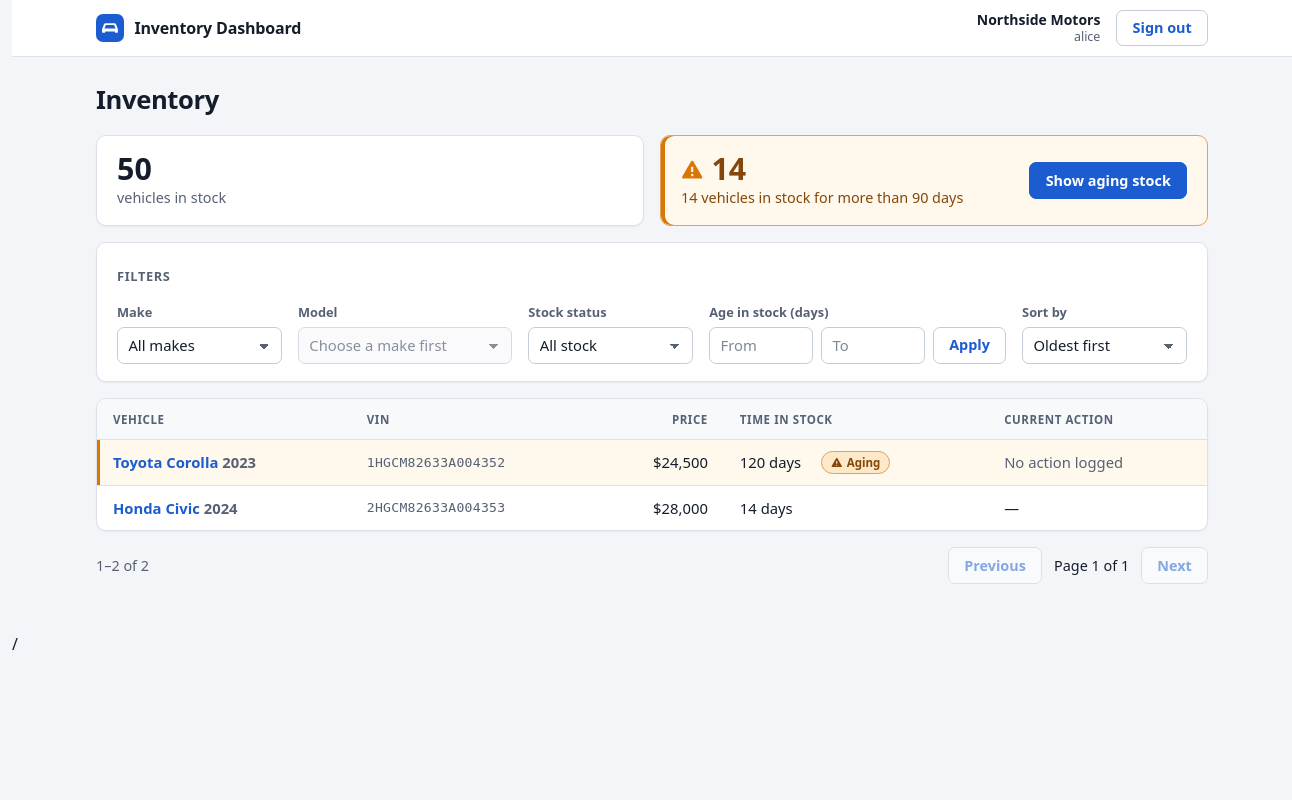
Test: filtering › filters by stock status
The width and height of the screenshot is (1292, 800).
Expected: the link "Toyota Corolla" is shown, [113, 452, 218, 472]
Select "Not aging" in the dropdown labelled "Stock status" at (611, 345), box [528, 327, 693, 364]
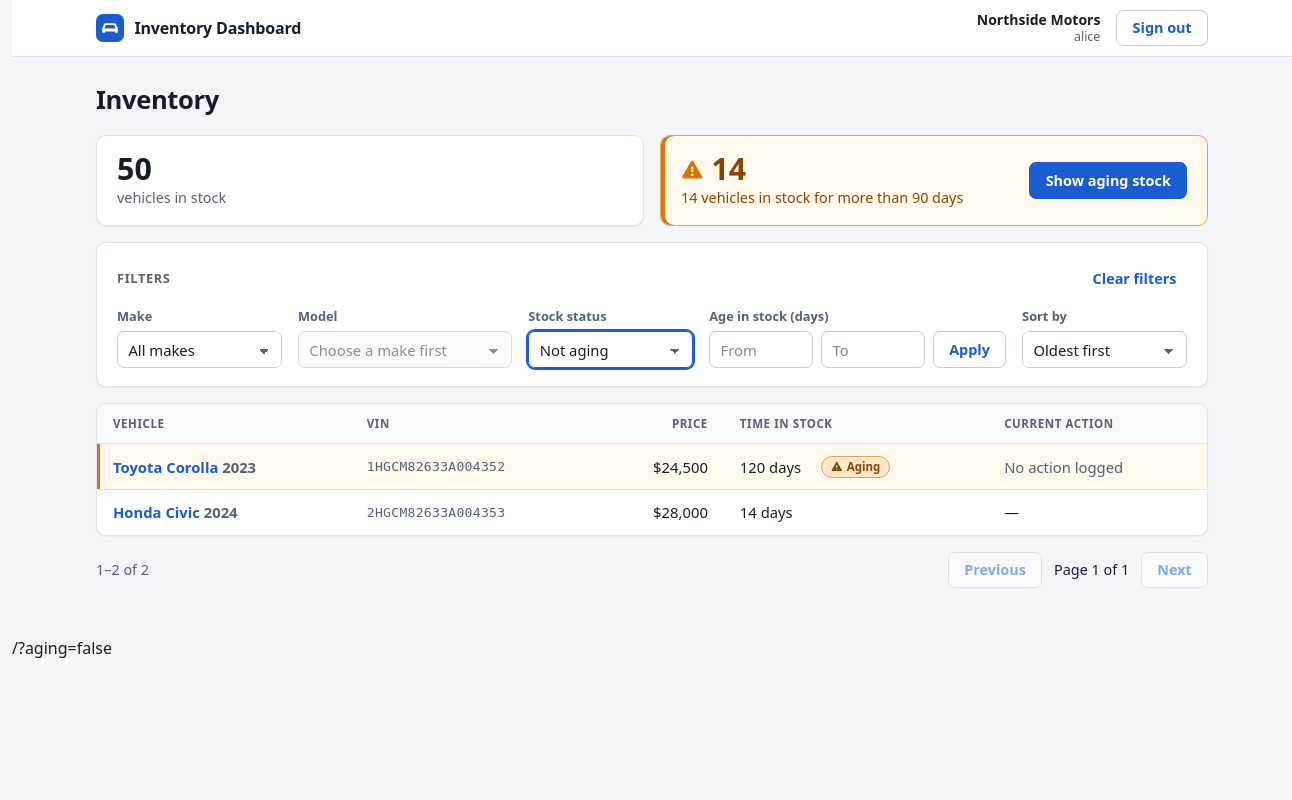
Expected: the link "Toyota Corolla" is shown, [113, 457, 218, 477]
Expected: the text with test id "location" shows "aging=false", [12, 637, 112, 659]
